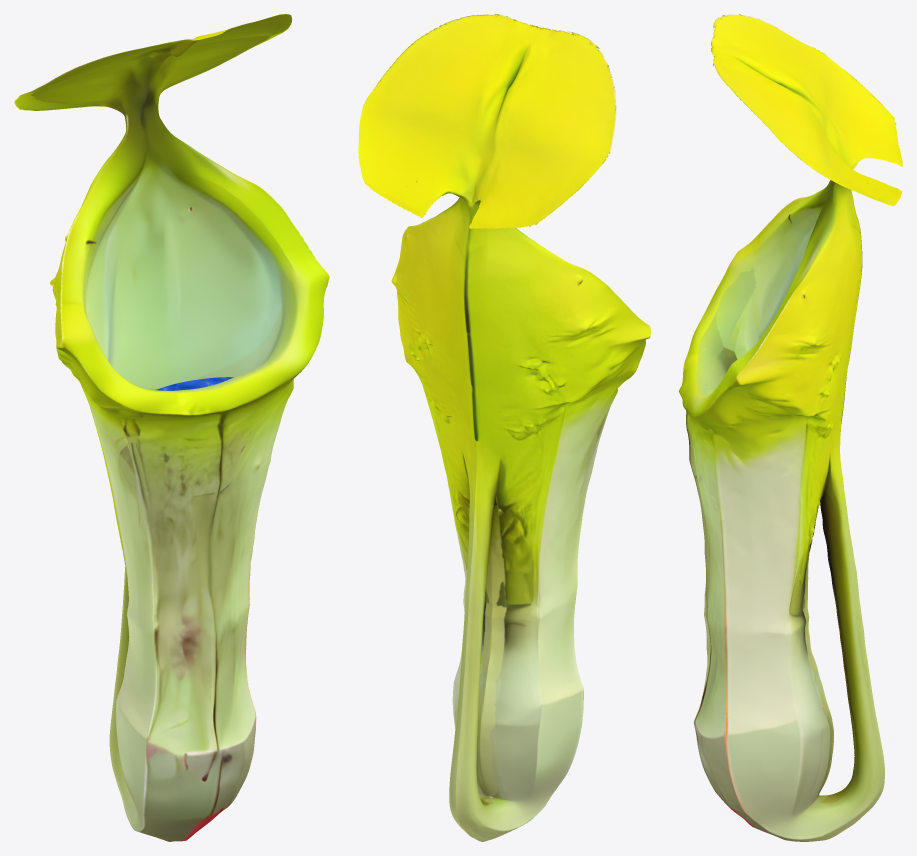
Rendered from Nepenthes justinae.glb.
The picture shows the model from 3 angles, left to right: view 1: azimuth 30°, elevation 25°; view 2: azimuth 150°, elevation 25°; view 3: azimuth 270°, elevation 25°; orthographic projection. The views are drawn at different scales.
Parts seen in each view (by area): view 1: model; view 2: model; view 3: model.
Part boxes in pixels (x1,y1,x2,y2): model: (14, 14, 329, 841); model: (358, 14, 650, 841); model: (679, 14, 902, 841).
Bounding box in the file's own units: 3.45 × 10.24 × 2.6.
Materials: 2 (2 with a texture image).
